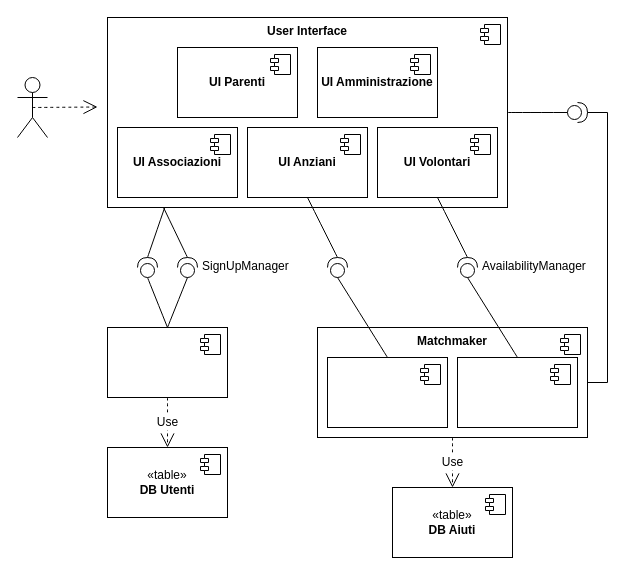
This 644x575 diagram has some shape labels left out. The shapes that lost their labels are listed below. From the top down, each one's centre as x and y in pixels, then its label:
At (x=577, y=112): "NotificationService".
At (x=147, y=267): "LogInManager".
At (x=337, y=267): "RequestManager".
At (x=167, y=362): "Authenticator".
At (x=387, y=392): "Gestore Richieste".
At (x=517, y=392): "Gestore Disponibilità".
